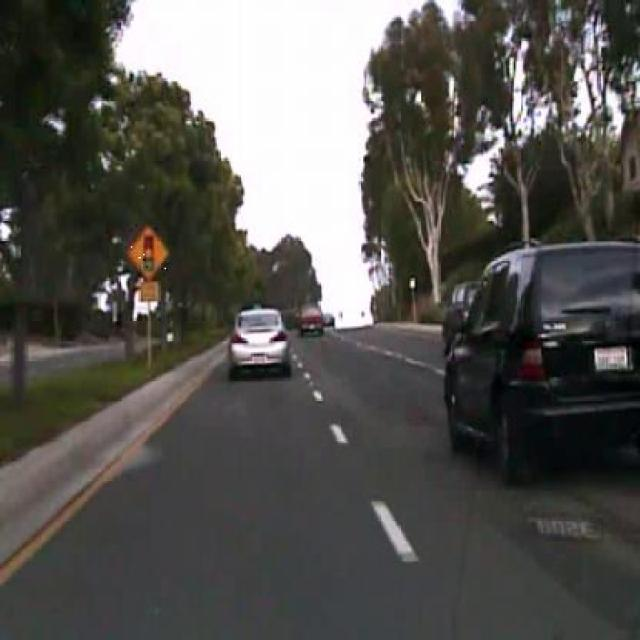signalAhead: (124, 223, 170, 282)
